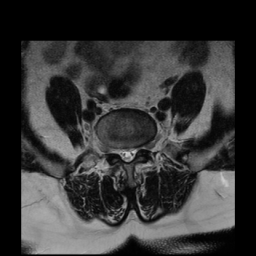CCS_normal: (124, 143, 130, 166)
LFS_stenosis: (136, 140, 143, 156)
LLS_normal: (130, 142, 136, 163)
RFS_stenosis: (111, 142, 118, 159)
RLS_normal: (118, 142, 124, 162)
